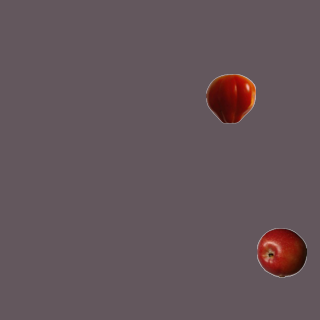Apple Braeburn: (256, 227, 306, 277)
Tomato 1: (205, 73, 255, 123)
